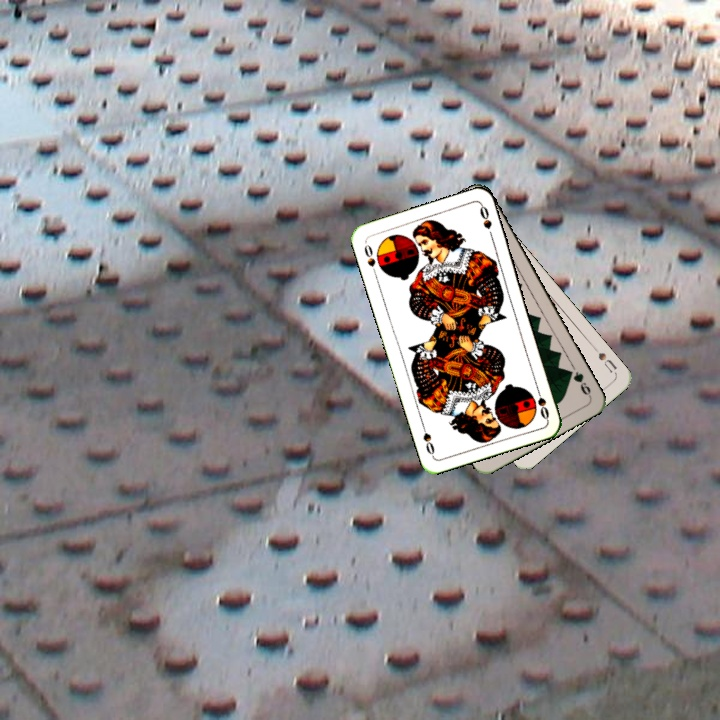G9: (563, 366, 594, 399)
SO: (532, 382, 552, 422), (360, 238, 379, 278)
SU: (589, 342, 620, 375)
